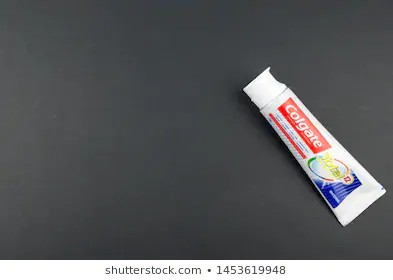colgate-total-150gm: (239, 57, 389, 227)
